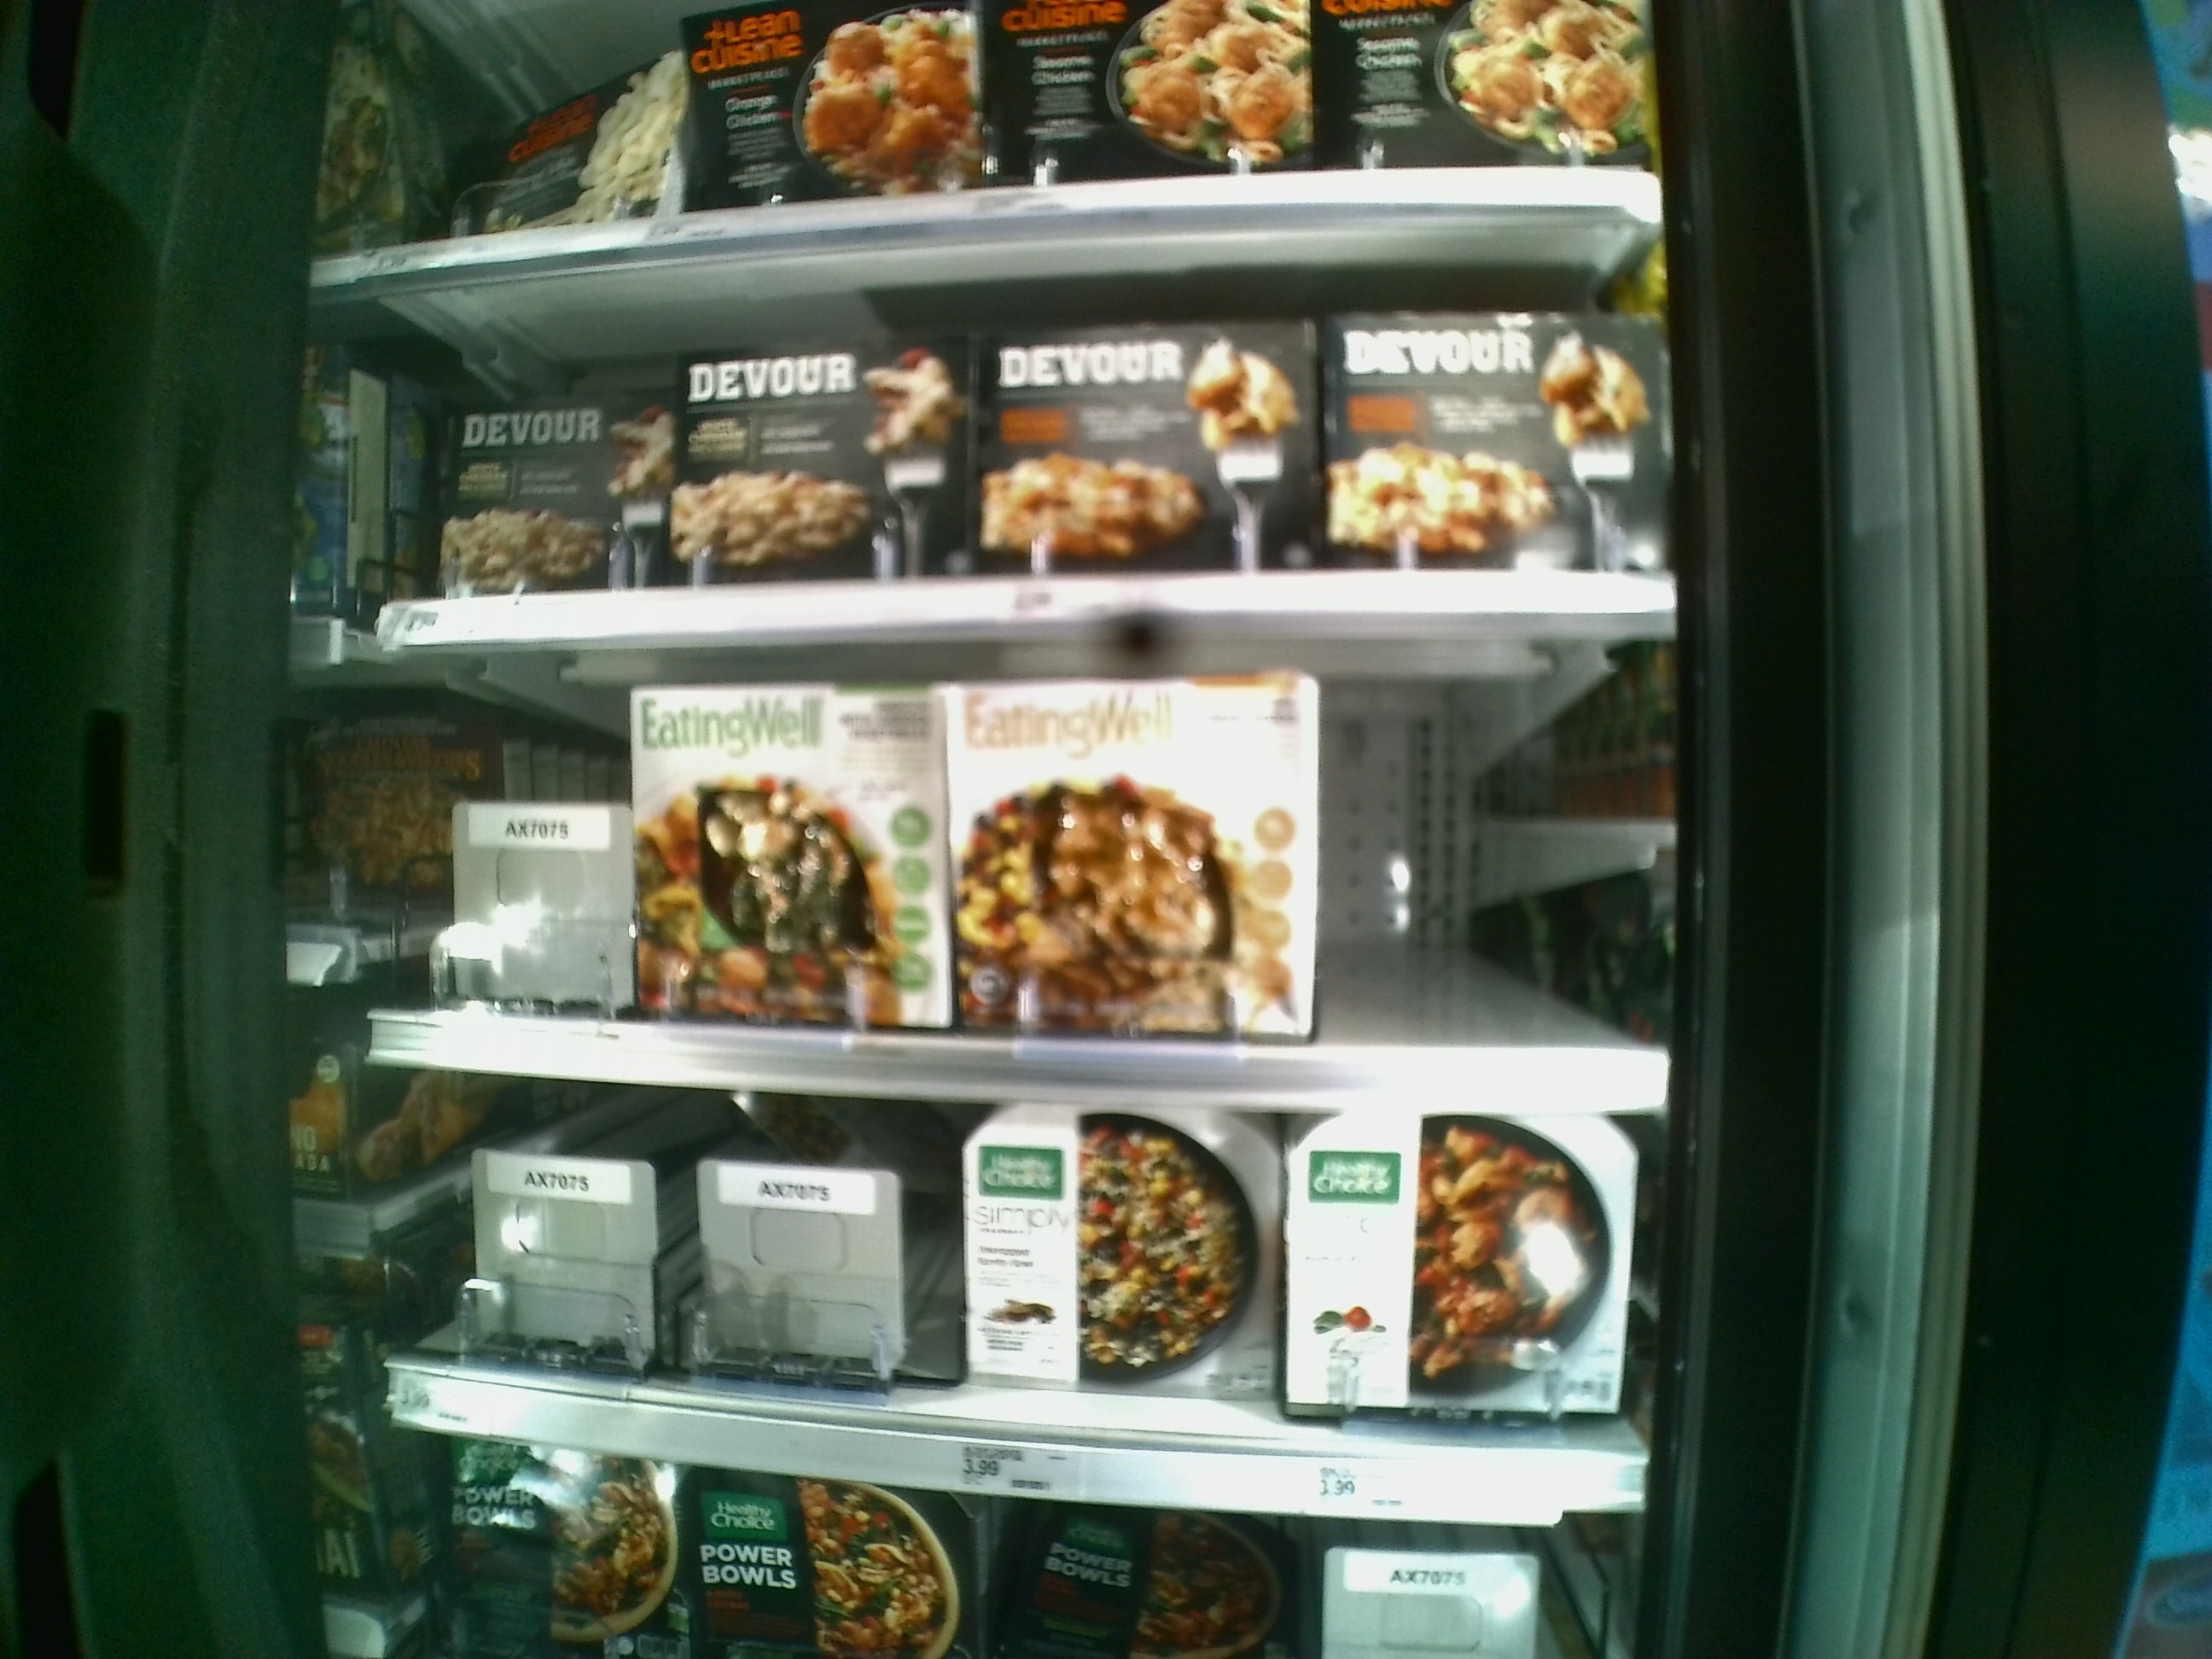shelf: (387, 608, 1676, 1110), (364, 1063, 1646, 1516), (348, 214, 1662, 647)
